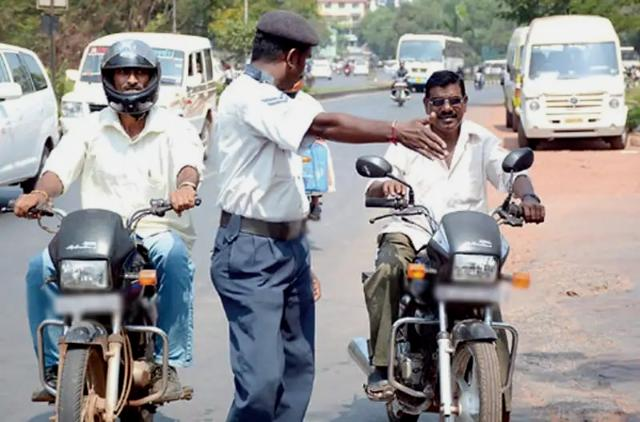licensePlate: (55, 288, 123, 318), (440, 282, 513, 306)
motorcycle: (19, 38, 219, 422), (381, 49, 552, 422)
withHelmet: (89, 42, 173, 121)
withoutHelmet: (422, 80, 470, 137)
